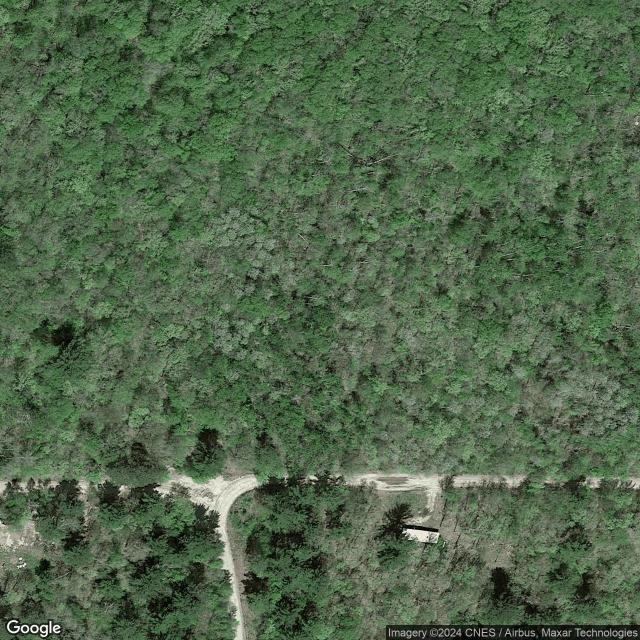Propane: (441, 540, 447, 548)
